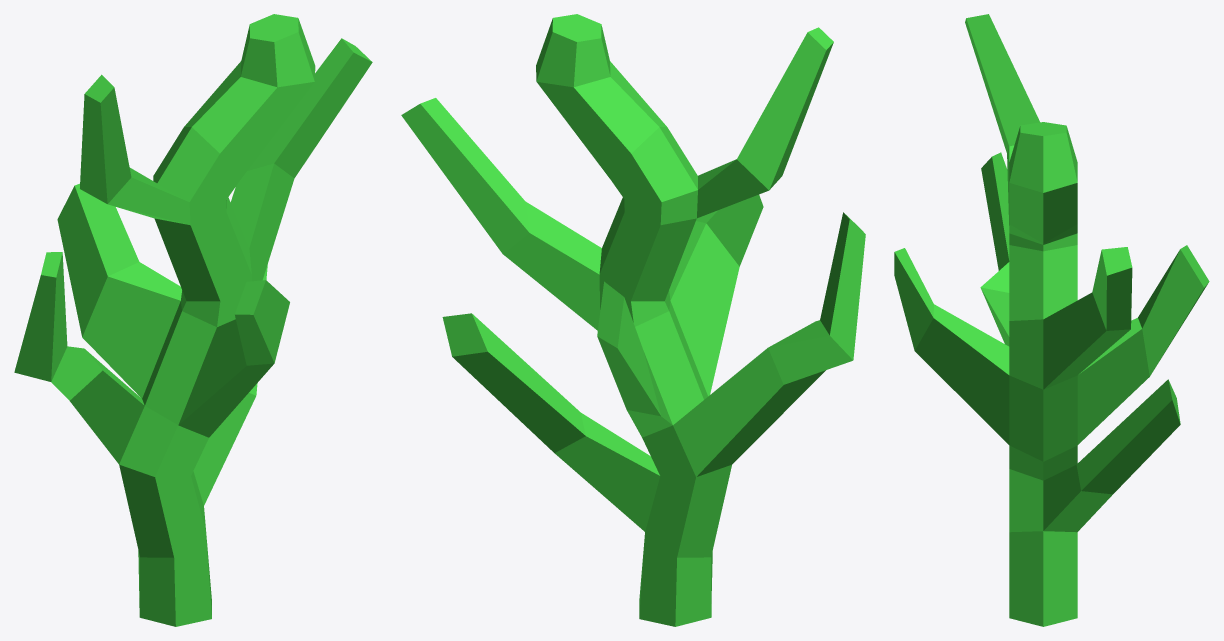
The model's file is CoralGreen.FBX.
3 renders of one model, left to right at view 1: azimuth 30°, elevation 25°; view 2: azimuth 150°, elevation 25°; view 3: azimuth 270°, elevation 25°, orthographic. The views are drawn at different scales.
Parts seen in each view (by area): view 1: CoralGreen; view 2: CoralGreen; view 3: CoralGreen.
Boxes of the visible parts, x1,y1,x2,y2 form: CoralGreen: (14, 14, 372, 626); CoralGreen: (401, 14, 865, 626); CoralGreen: (894, 14, 1209, 626).
Size of the model in its own units: 27.64 by 38.42 by 19.99.
